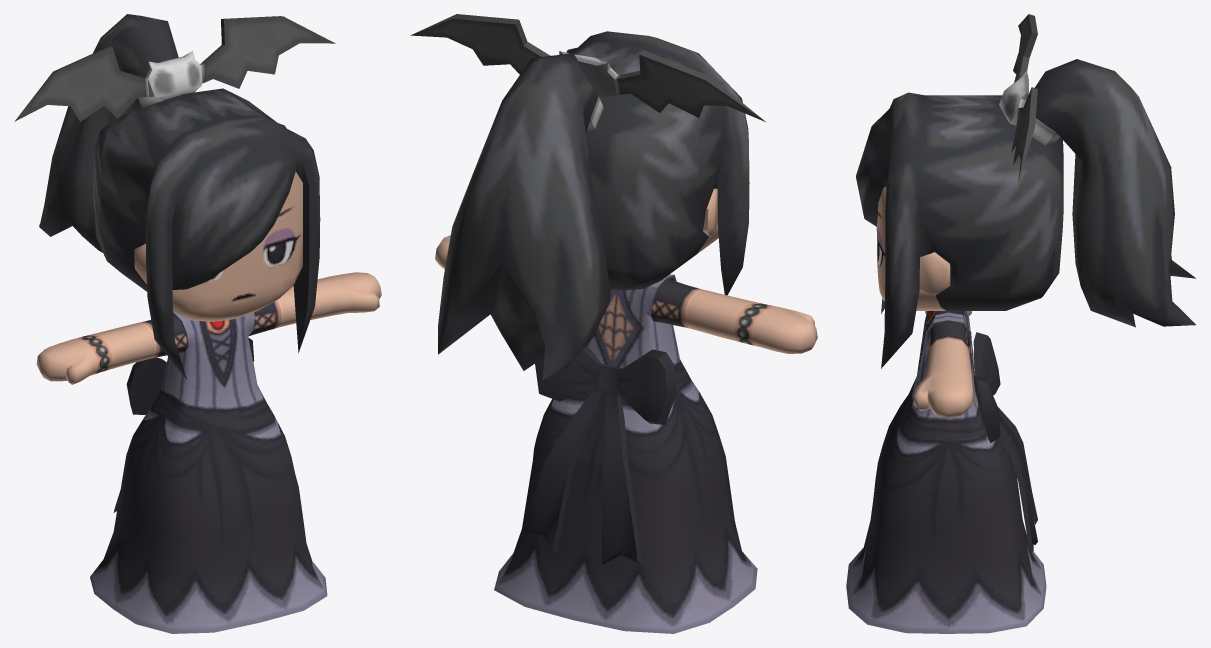
The model's file is person.FBX.
3 views of the same model, side by side, from view 1: azimuth 30°, elevation 25°; view 2: azimuth 150°, elevation 25°; view 3: azimuth 270°, elevation 25° (orthographic). The views are drawn at different scales.
Parts seen in each view (by area): view 1: Object001_001, Object003_001, Object002_001; view 2: Object003_001, Object001_001, Object002_001; view 3: Object003_001, Object001_001, Object002_001.
Boxes of the visible parts, left/top/right/bottom form: Object001_001: left=36, top=272, right=381, bottom=633; Object003_001: left=14, top=14, right=335, bottom=379; Object002_001: left=134, top=171, right=302, bottom=321; Object003_001: left=410, top=14, right=765, bottom=379; Object001_001: left=435, top=235, right=817, bottom=633; Object002_001: left=697, top=188, right=718, bottom=253; Object003_001: left=856, top=14, right=1195, bottom=368; Object001_001: left=846, top=311, right=1046, bottom=633; Object002_001: left=876, top=186, right=950, bottom=310.
Size of the model in its own units: 419 by 373 by 618.
Materials: 3 (3 with a texture image).
